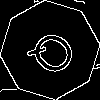Q: (25, 25, 87, 86)
